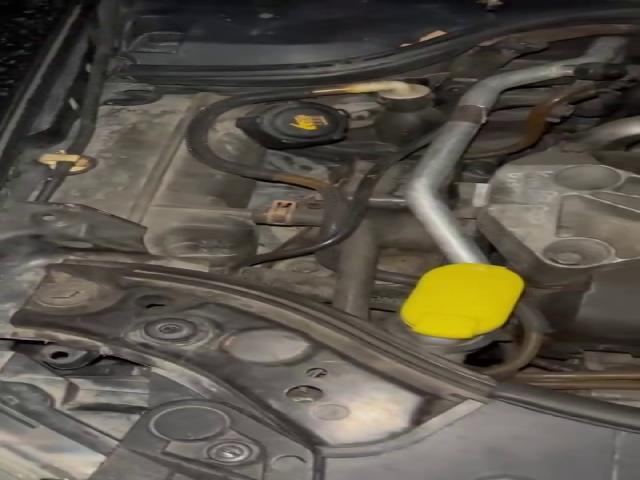antifreeze_tank: (51, 92, 265, 262), (210, 99, 347, 165)
